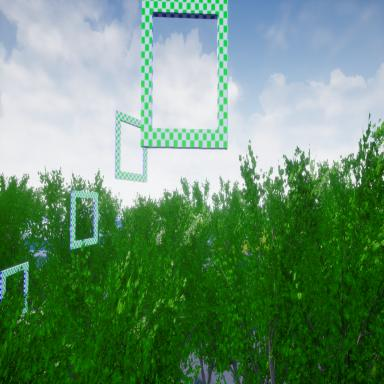gate: (141, 0, 229, 149), (113, 107, 147, 184), (69, 190, 99, 253)
